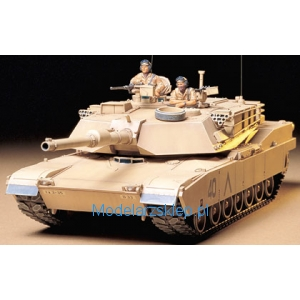Battle Tank: (7, 84, 297, 241)
